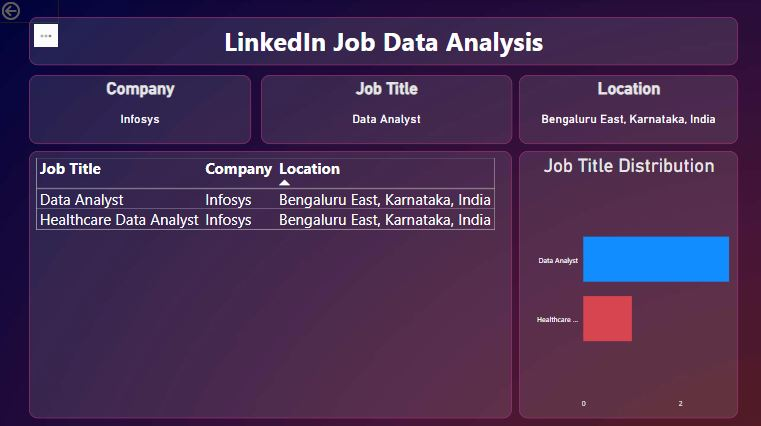

The page's visual inventory and layout, read from the dashboard file:
{"tool":"powerbi","page":{"name":"Detailed Job View","canvas":[1280,720],"ordinal":1},"visuals":[{"type":"actionButton","box":[0,0,100,40],"z":0},{"type":"actionButton","box":[0,0,100,40],"z":1000},{"type":"card","title":"Company","fields":{"Values":["Min(linkedin_jobs.Company)"]},"box":[50.4,127.7,372.9,115.9],"z":2000},{"type":"card","title":"Job Title","fields":{"Values":["Min(linkedin_jobs.Job Title)"]},"box":[440.1,127.7,421.6,115.9],"z":3000},{"type":"card","title":"Location","fields":{"Values":["Min(linkedin_jobs.Location)"]},"box":[873.5,127.7,367.9,115.9],"z":4000},{"type":"textbox","box":[50.4,30.2,1191,80.6],"z":5000},{"type":"tableEx","fields":{"Values":["linkedin_jobs.Job Title","linkedin_jobs.Company","linkedin_jobs.Location"]},"box":[50.4,255.3,811.3,448.5],"z":6000},{"type":"clusteredBarChart","title":"Job Title Distribution","fields":{"Category":["linkedin_jobs.Job Title"],"Y":["CountNonNull(linkedin_jobs.Job Title)"]},"box":[873.5,255.3,367.9,448.5],"z":6001}]}

Visuals, with their boxes in screenshot pixels (x1, y1, x2, y2), scaled from the page's 1280x720 canvas onto the 761x426 screenshot:
actionButton: <region>0, 0, 59, 24</region>
actionButton: <region>0, 0, 59, 24</region>
"Company" card: <region>30, 76, 252, 144</region>
"Job Title" card: <region>262, 76, 512, 144</region>
"Location" card: <region>519, 76, 738, 144</region>
textbox: <region>30, 18, 738, 66</region>
tableEx - linkedin_jobs.Job Title x linkedin_jobs.Company: <region>30, 151, 512, 416</region>
"Job Title Distribution" clusteredBarChart: <region>519, 151, 738, 416</region>
